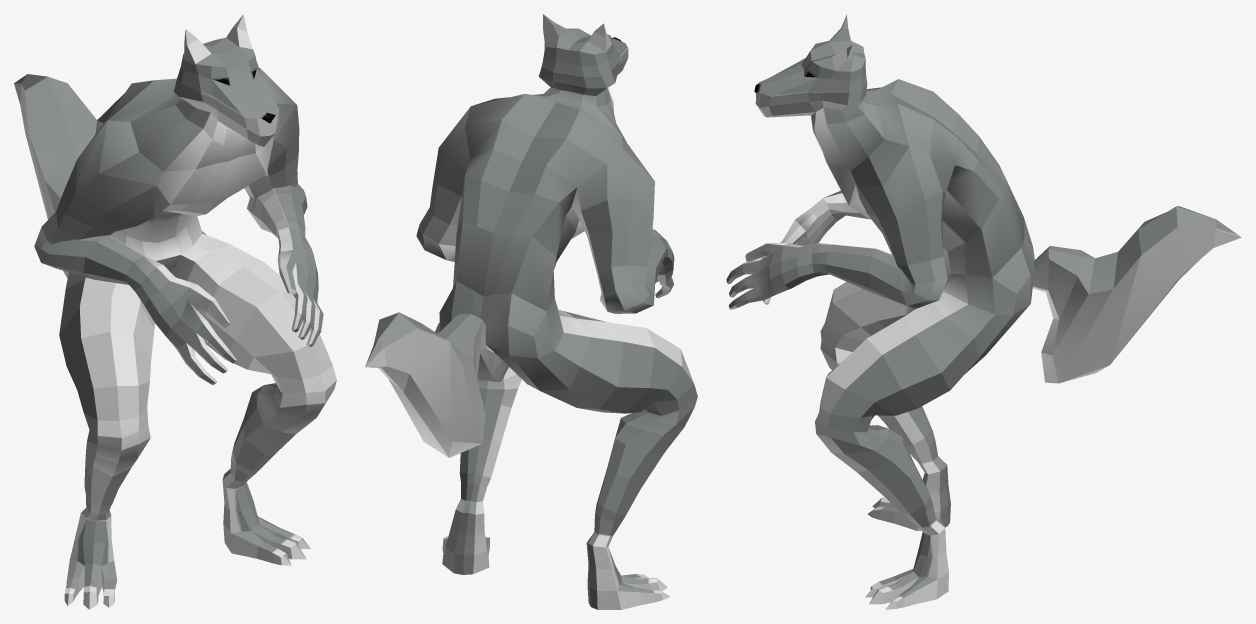
File: WolfIdle_(130).obj
3 views of the same model, side by side, from view 1: azimuth 30°, elevation 25°; view 2: azimuth 150°, elevation 25°; view 3: azimuth 270°, elevation 25° (orthographic). The views are drawn at different scales.
Parts seen in each view (by area): view 1: Box001; view 2: Box001; view 3: Box001.
Part boxes in pixels (x1,y1,x2,y2): Box001: [14, 14, 336, 609]; Box001: [365, 14, 697, 609]; Box001: [726, 14, 1241, 609].
Bounding box in the file's own units: 60.97 × 131 × 115.
